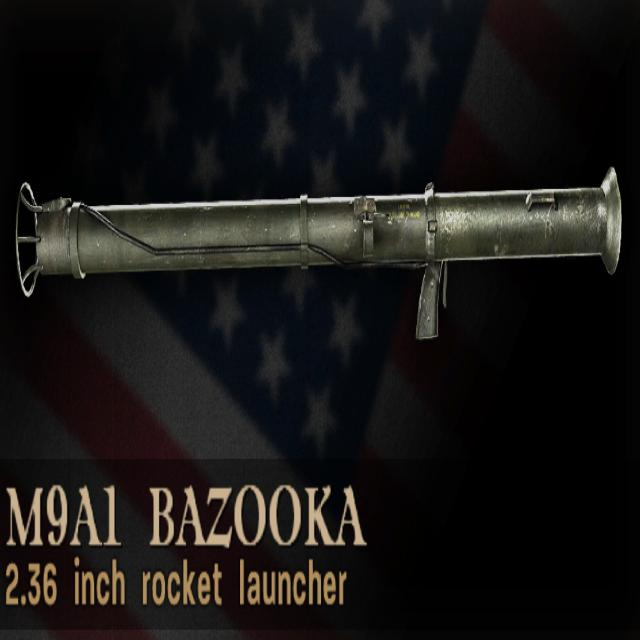Weapon: (15, 167, 621, 338)
